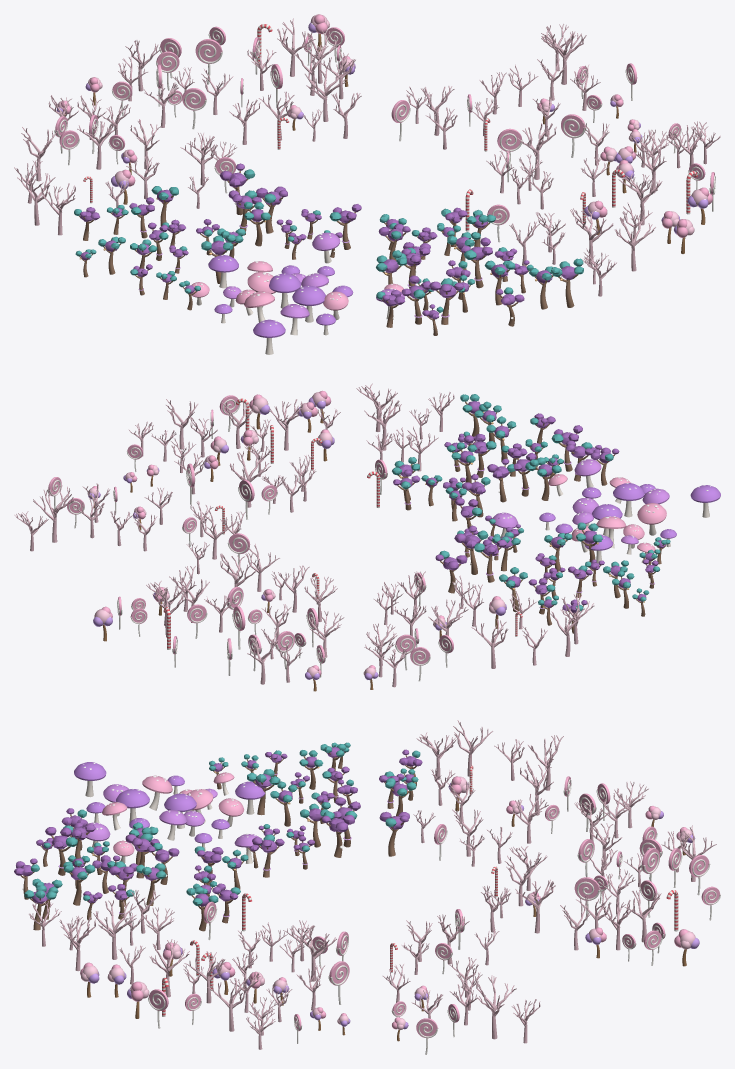
File: CandyForest_MainStructures.fbx
The picture shows the model from 3 angles, top to bottom: view 1: azimuth 30°, elevation 25°; view 2: azimuth 150°, elevation 25°; view 3: azimuth 270°, elevation 25°; orthographic projection. The views are drawn at different scales.
Parts seen in each view (by area): view 1: CAN_GiantMushroom_C_04, CAN_TwistedTree_B_03, CAN_TwistedTree_B_08, CAN_GiantMushroom_C, CAN_BareTree_Pink_B_13, CAN_GiantMushroom_C_08, CAN_Lollipop_GiantPink_03, CAN_TwistedTree_C_09, CAN_TwistedTree_B_12, CAN_TwistedTree_A, CAN_TwistedTree_A_04, CAN_BareTree_Pink_B_01 (+4 smaller); view 2: CAN_GiantMushroom_B_02, CAN_TwistedTree_A, CAN_GiantMushroom_C_04, CAN_GiantMushroom_C_08, CAN_BareTree_Pink_B_01, CAN_TwistedTree_B_13, CAN_TwistedTree_C_05, CAN_TwistedTree_B_08, CAN_TwistedTree_B_03, CAN_TwistedTree_B_04, CAN_TwistedTree_C_16, CAN_TwistedTree_A_04; view 3: CAN_TwistedTree_B_03, CAN_GiantMushroom_C_08, CAN_BareTree_Pink_B_05, CAN_TwistedTree_A, CAN_TwistedTree_C_05, CAN_GiantMushroom_C_04, CAN_BareTree_Pink_B_01, CAN_TwistedTree_A_04, CAN_GiantMushroom_B_02, CAN_TwistedTree_B_05.
Part boxes in pixels (box(x1,y1,x2,y2)): CAN_GiantMushroom_C_04: box(292, 285, 325, 322); CAN_TwistedTree_B_03: box(429, 278, 464, 324); CAN_TwistedTree_B_08: box(460, 237, 492, 288); CAN_GiantMushroom_C: box(269, 273, 301, 308); CAN_BareTree_Pink_B_13: box(305, 62, 349, 121); CAN_GiantMushroom_C_08: box(253, 319, 285, 354); CAN_Lollipop_GiantPink_03: box(195, 39, 222, 84); CAN_TwistedTree_C_09: box(552, 258, 583, 307); CAN_TwistedTree_B_12: box(401, 275, 431, 324); CAN_TwistedTree_A: box(256, 186, 287, 233); CAN_TwistedTree_A_04: box(219, 163, 255, 215); CAN_BareTree_Pink_B_01: box(541, 30, 586, 84); CAN_GiantMushroom_B_02: box(637, 503, 666, 535); CAN_TwistedTree_A: box(454, 525, 488, 574); CAN_GiantMushroom_C_04: box(613, 483, 644, 517); CAN_GiantMushroom_C_08: box(690, 485, 720, 517); CAN_BareTree_Pink_B_01: box(33, 485, 74, 542); CAN_TwistedTree_B_13: box(474, 539, 507, 582); CAN_TwistedTree_C_05: box(576, 522, 602, 567); CAN_TwistedTree_B_08: box(463, 433, 496, 477); CAN_TwistedTree_B_03: box(551, 425, 582, 471); CAN_TwistedTree_B_04: box(512, 450, 536, 496); CAN_TwistedTree_C_16: box(529, 457, 561, 500); CAN_TwistedTree_A_04: box(435, 550, 467, 593); CAN_TwistedTree_B_03: box(45, 827, 77, 875); CAN_GiantMushroom_C_08: box(74, 762, 106, 797); CAN_BareTree_Pink_B_05: box(93, 900, 136, 959); CAN_TwistedTree_A: box(321, 811, 354, 857); CAN_TwistedTree_C_05: box(247, 769, 280, 815); CAN_GiantMushroom_C_04: box(116, 789, 149, 823); CAN_BareTree_Pink_B_01: box(475, 975, 516, 1039); CAN_TwistedTree_A_04: box(379, 811, 409, 856); CAN_GiantMushroom_B_02: box(142, 775, 172, 810); CAN_TwistedTree_B_05: box(252, 834, 284, 877).
Size of the model in its own units: 245 by 25.28 by 251.
